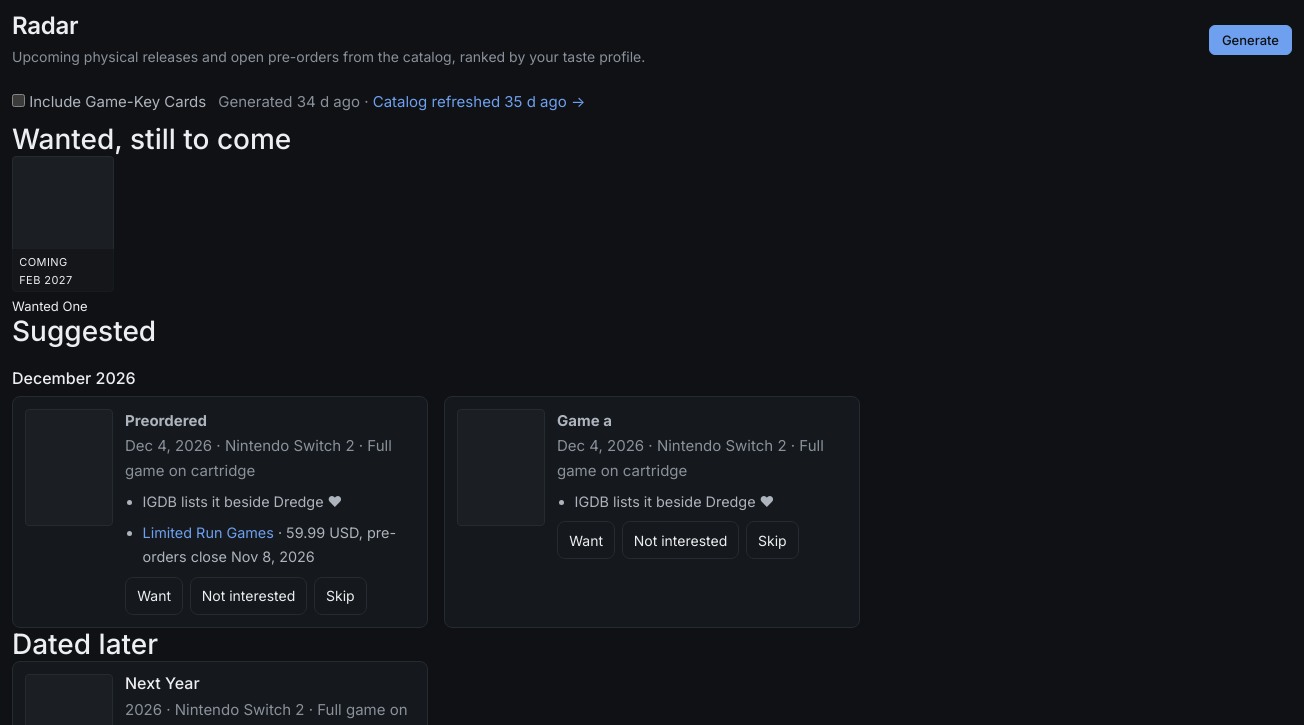
Test: AdminRadar › wants a game: the card goes, the page says so and reads again
The image size is (1304, 725).
Check: the heading "Game a" is shown, box [557,411,612,430]
Click the button with aria-label "Want Game a".
click(586, 540)  # box [557,522,615,559]
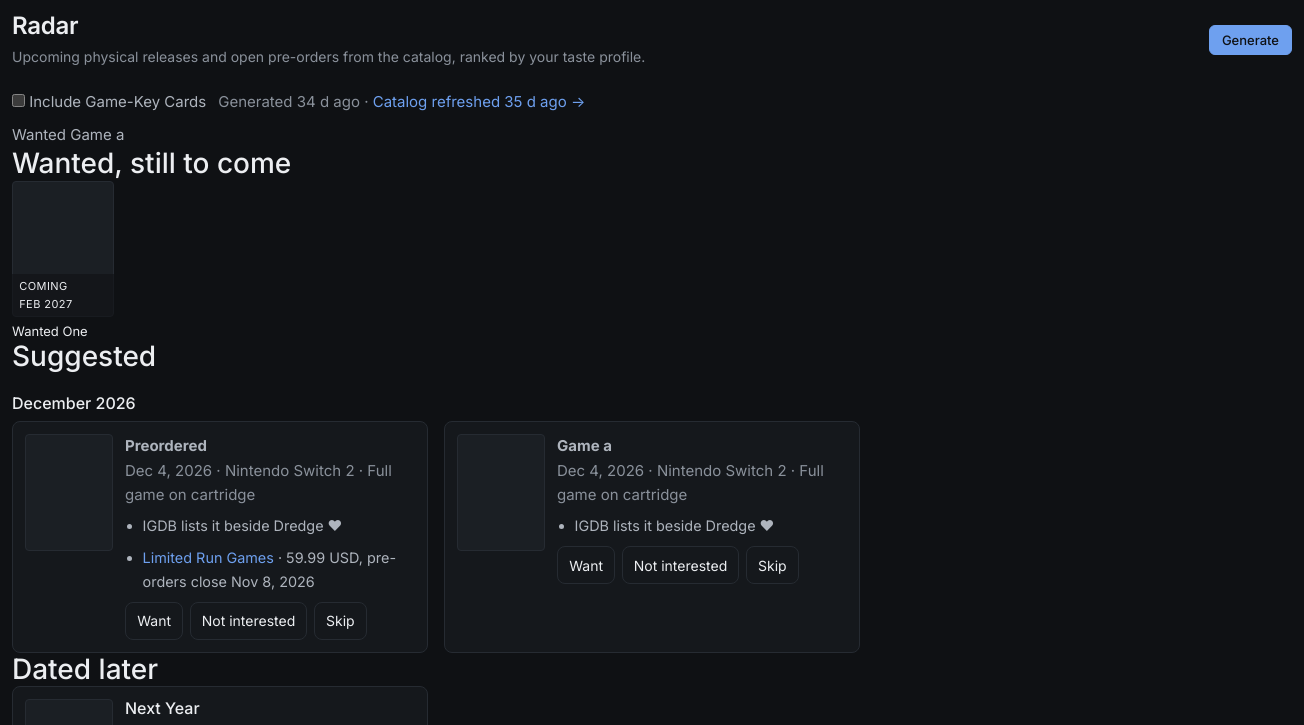
Check: the message reads "Wanted Game a", box [12,125,124,144]
